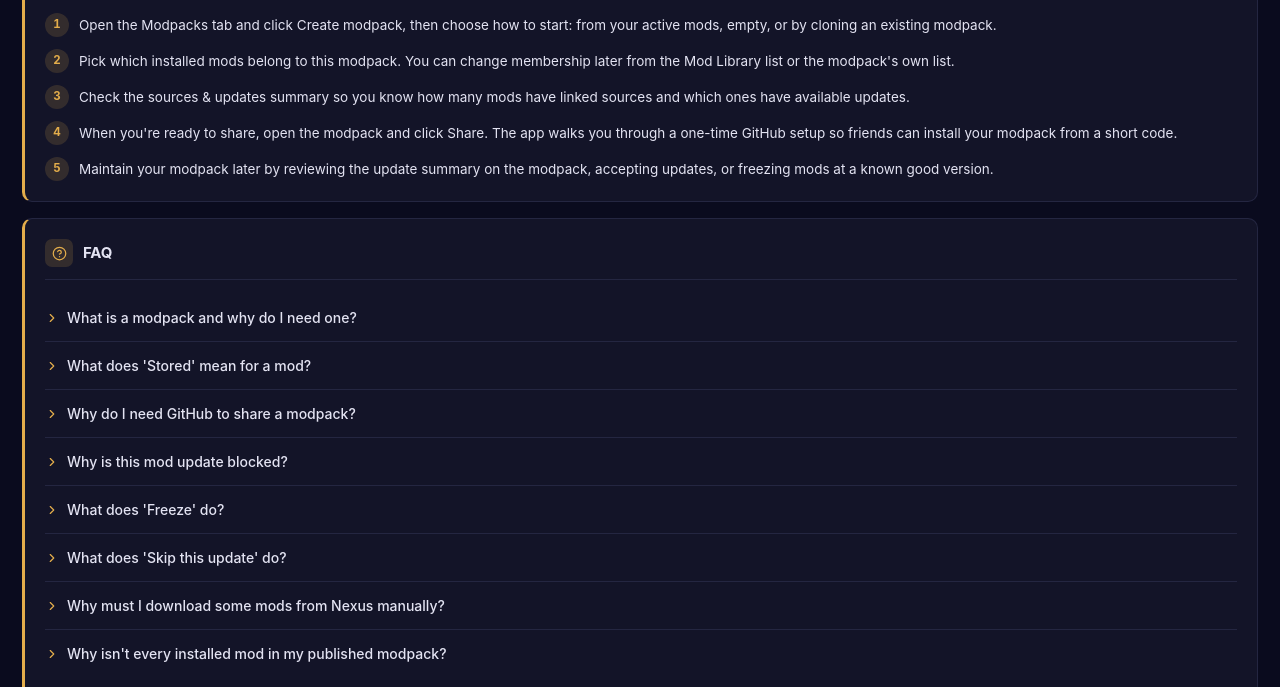
Test: <HelpView> › GitHub FAQ explains the share-time GitHub requirement
(page scrolled)
Click the button "Why do I need GitHub to share a modpack?": (211, 414) [45, 392, 1237, 435]
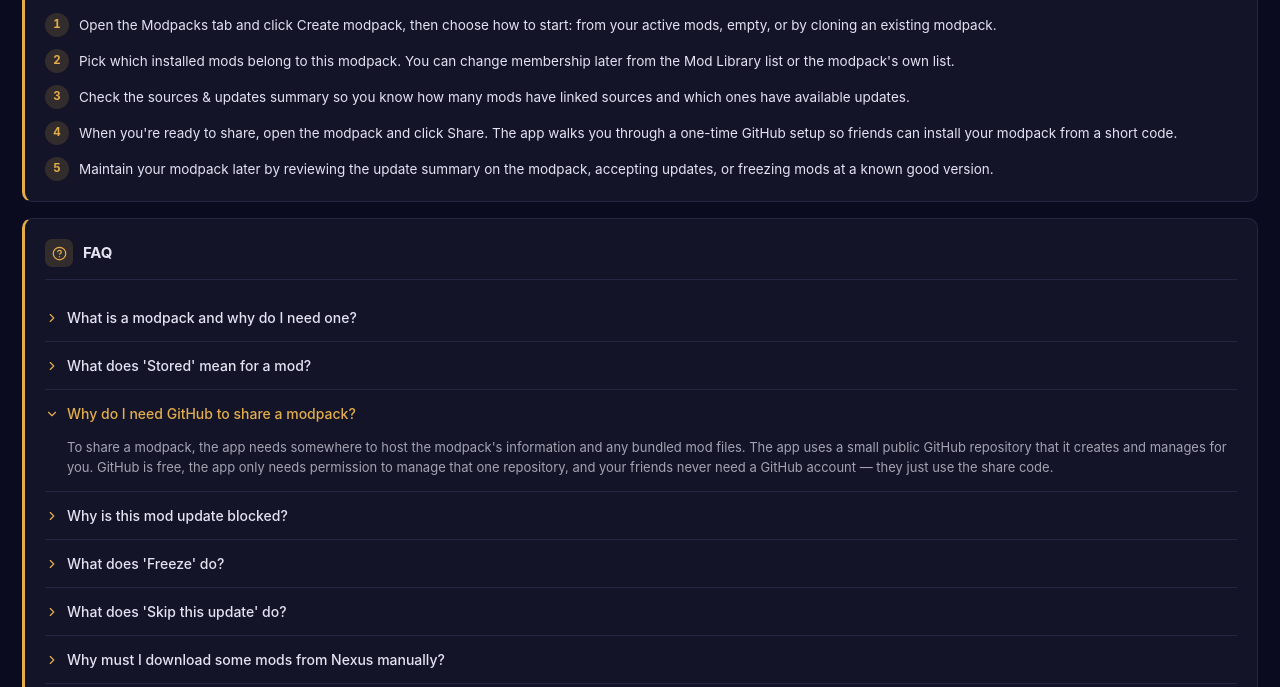
Result: the text "your friends never need a github account" is shown at [67, 439, 1227, 475]
